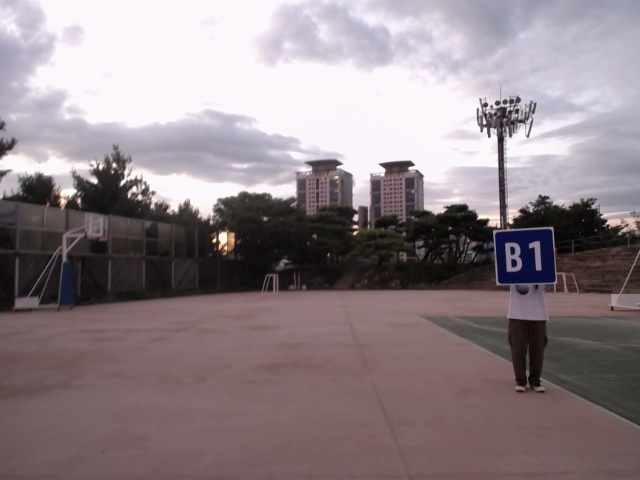delivery_b1: (494, 228, 557, 284)
